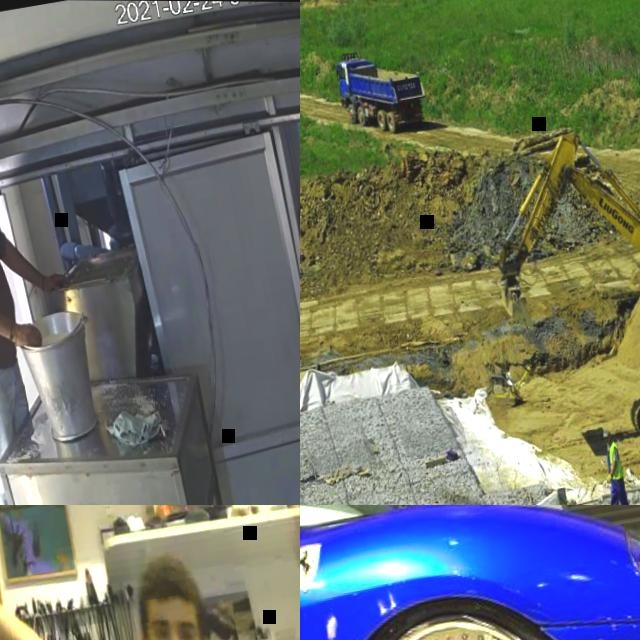NO-Hardhat: (138, 551, 201, 613), (600, 426, 609, 437)
NO-Mask: (605, 438, 611, 442)
NO-Safety Vest: (0, 175, 21, 368)
Person: (0, 74, 129, 505), (0, 505, 300, 640), (593, 424, 631, 505)
Safety Vest: (602, 440, 624, 479)
machinery: (471, 100, 640, 480), (330, 38, 430, 139)
vehicle: (300, 505, 640, 640)
